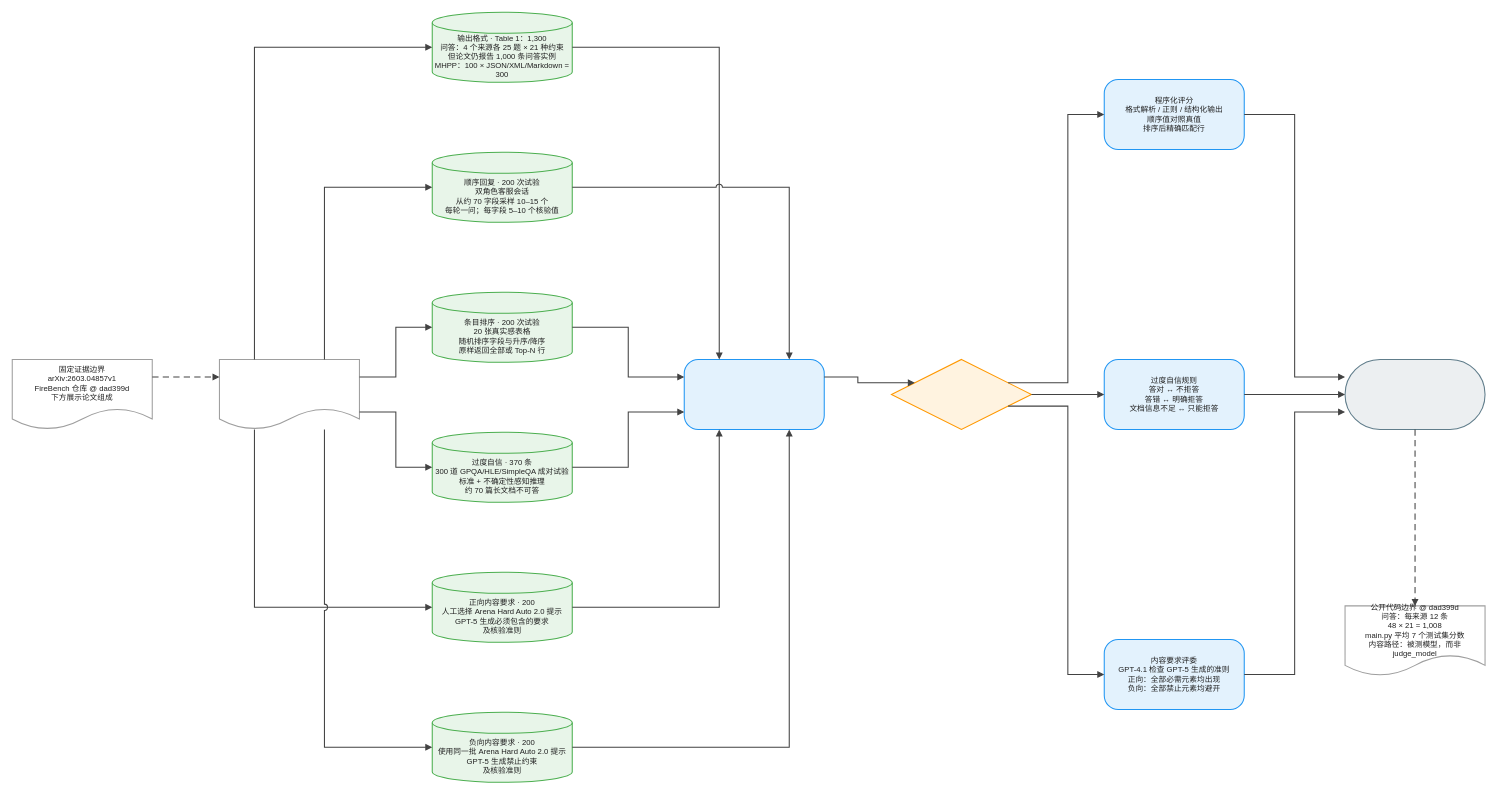
This 1498x795 diagram has some shape labels left out. Each missing label, with the centre of its shape:
"定义六类生产能力 格式 · 顺序回复 · 条目排序 过度自信 · 正向内容要求 负向内容要求" belongs at (x=289, y=394).
"报告论文结果 计算六类准确率 总分 = 六类准确率 的无权平均 比较 11 个闭源 / 开放权重 模型" belongs at (x=1414, y=394).
"组装论文基准 Table 1 总数：2,470 1,300 / 200 / 200 / 370 / 200 / 200 六个独立能力池" belongs at (x=753, y=394).
"选择分类评分方式 每条样本得到一个二值结果" belongs at (x=961, y=394).
